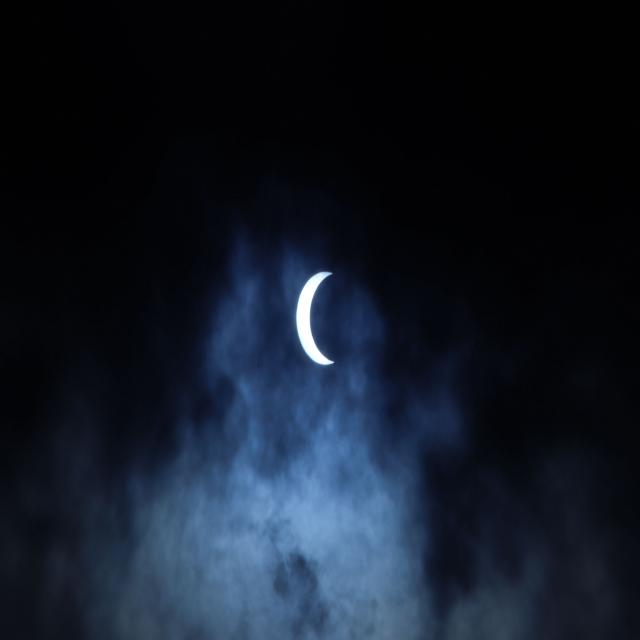moon: (293, 263, 352, 378)
